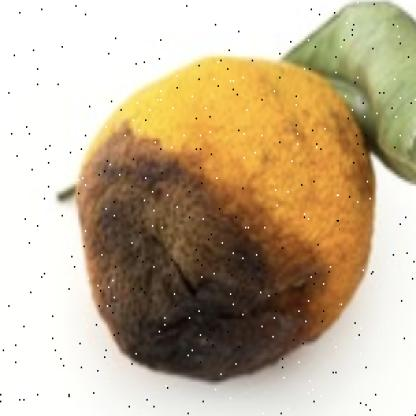rotten: (72, 57, 376, 385)
